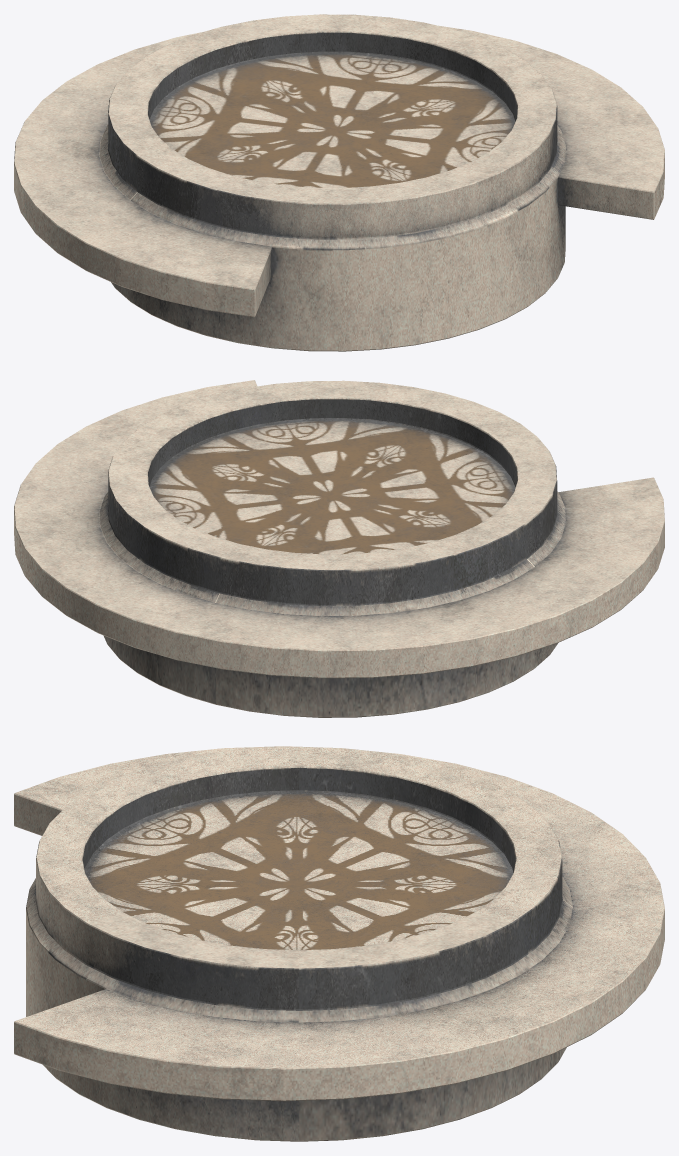
File: field.fbx
The picture shows the model from 3 angles, top to bottom: view 1: azimuth 30°, elevation 25°; view 2: azimuth 150°, elevation 25°; view 3: azimuth 270°, elevation 25°; orthographic projection. The views are drawn at different scales.
Parts seen in each view (by area): view 1: pCylinder5; view 2: pCylinder5; view 3: pCylinder5.
Part boxes in pixels (left/top/right/bottom): pCylinder5: left=14, top=14, right=664, bottom=351; pCylinder5: left=14, top=380, right=664, bottom=717; pCylinder5: left=14, top=746, right=664, bottom=1141.
Bounding box in the file's own units: 1682 × 411 × 1434.
